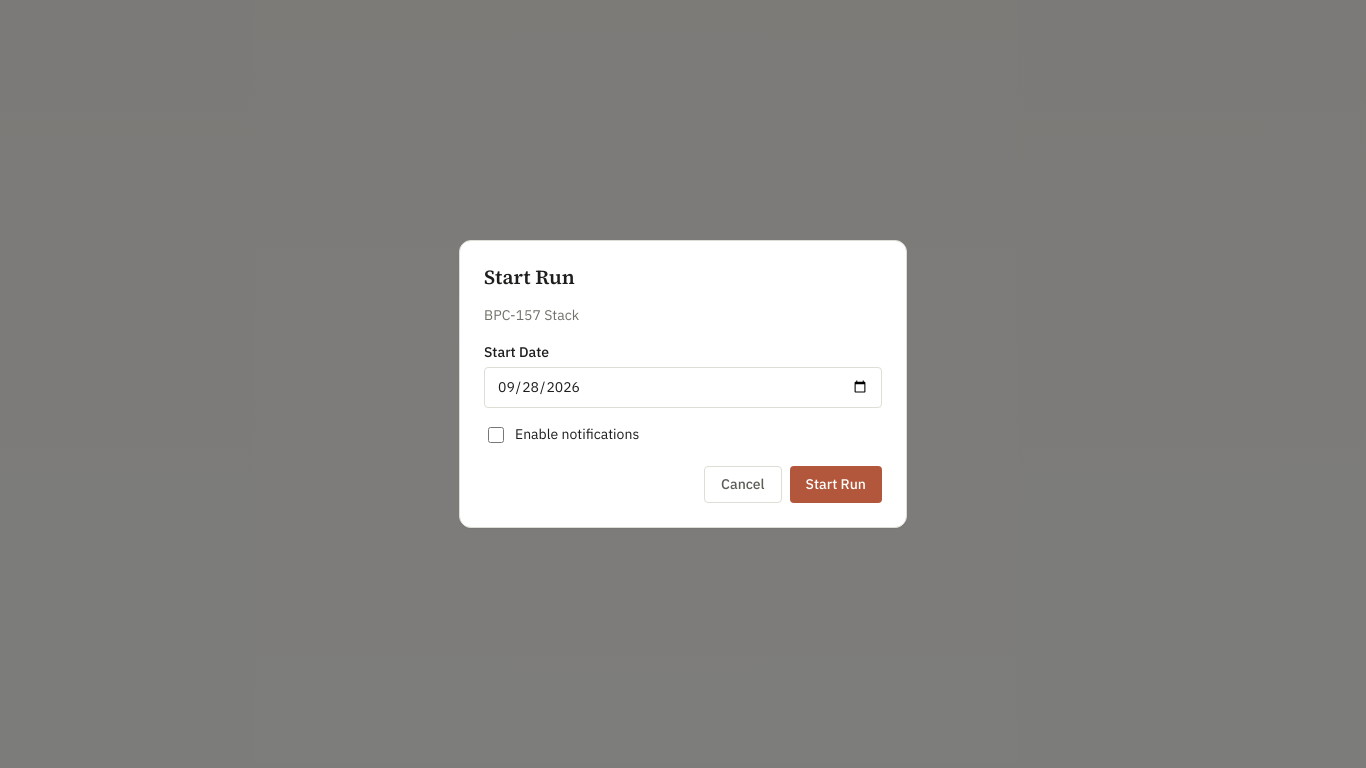
Test: StartRunModal › shows notification times when checkbox is checked (no repeat-reminders control)
Expected: the text "Notification Times" is not shown
Click the checkbox labelled "Enable notifications".
click(496, 435)  # box [488,427,504,443]
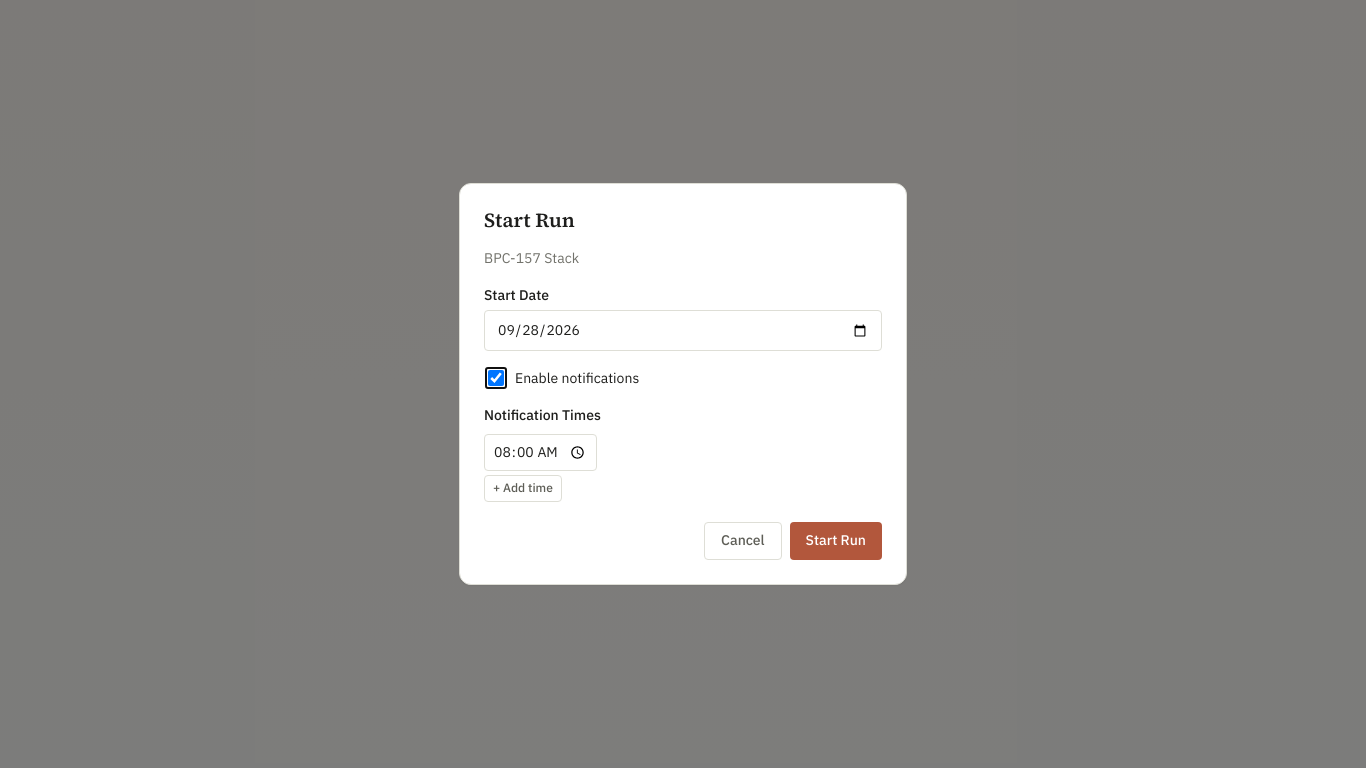
Now the text "Notification Times" is shown, box [484,406,601,424]
